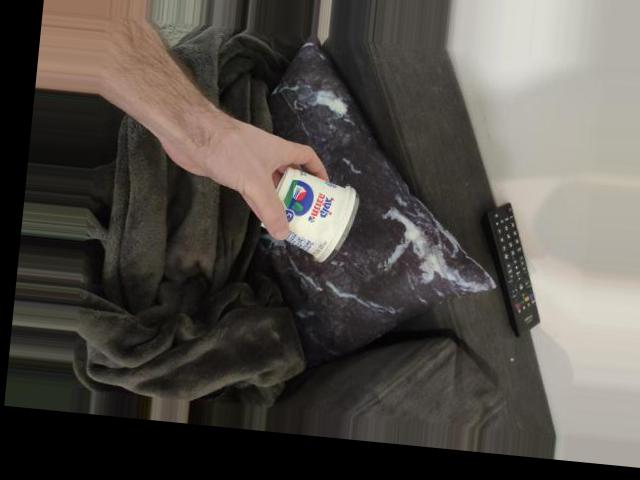cotage: (246, 153, 372, 269)
